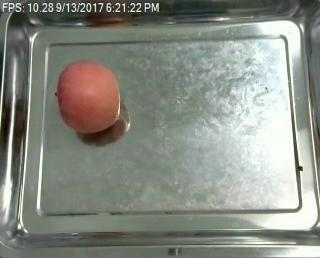apple: (53, 60, 121, 134)
